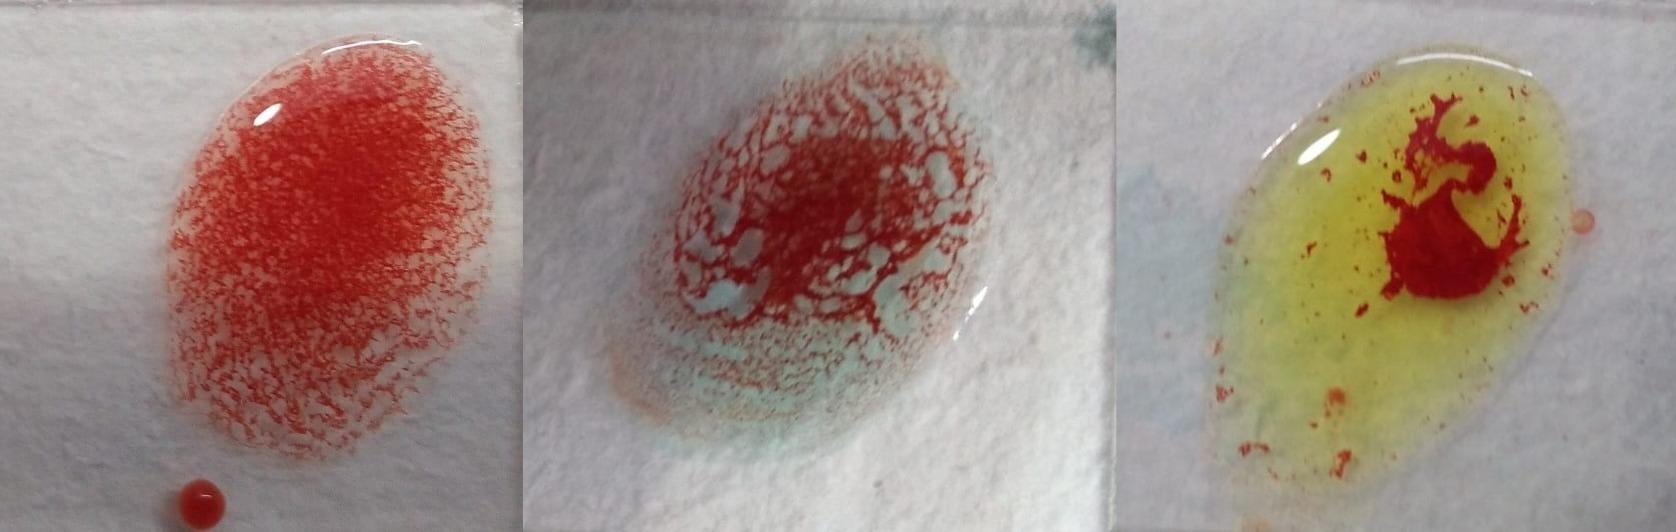A: (629, 38, 989, 455)
B: (1213, 48, 1567, 498)
D: (176, 42, 490, 467)
